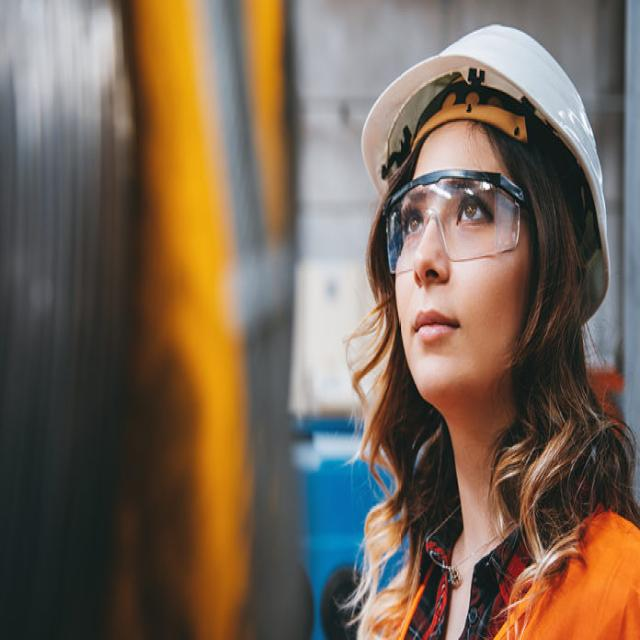goggles: (382, 168, 530, 271)
helmet: (358, 0, 620, 315)
vest: (366, 483, 640, 640)
